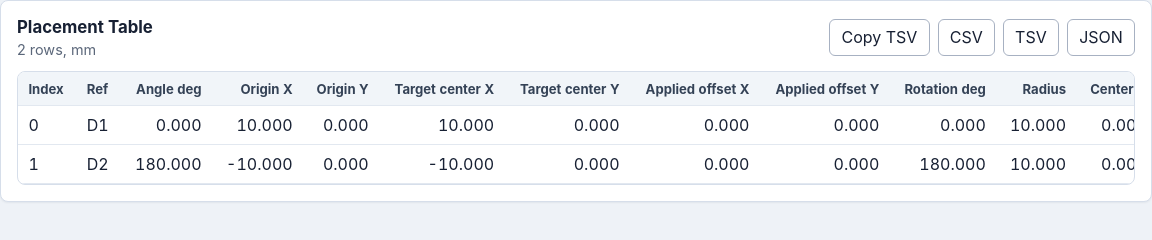
Test: OutputTable clipboard handling › reports failure when the Clipboard API is unavailable
Click the button "Copy TSV": (879,38) x1=829 y1=19 x2=930 y2=56
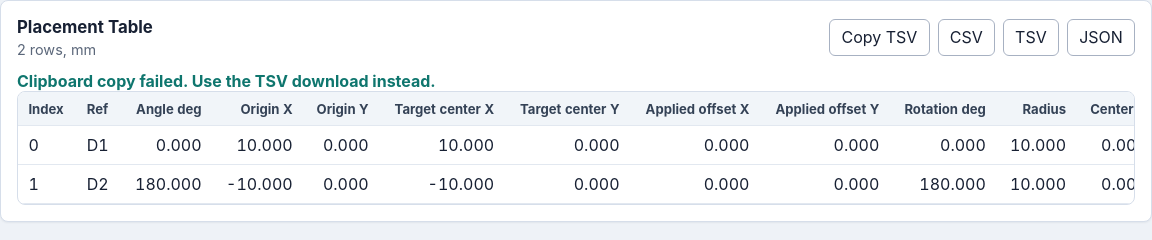
Check: the text "Clipboard copy failed. Use the TSV download instead." is shown, box x1=17 y1=71 x2=436 y2=91
